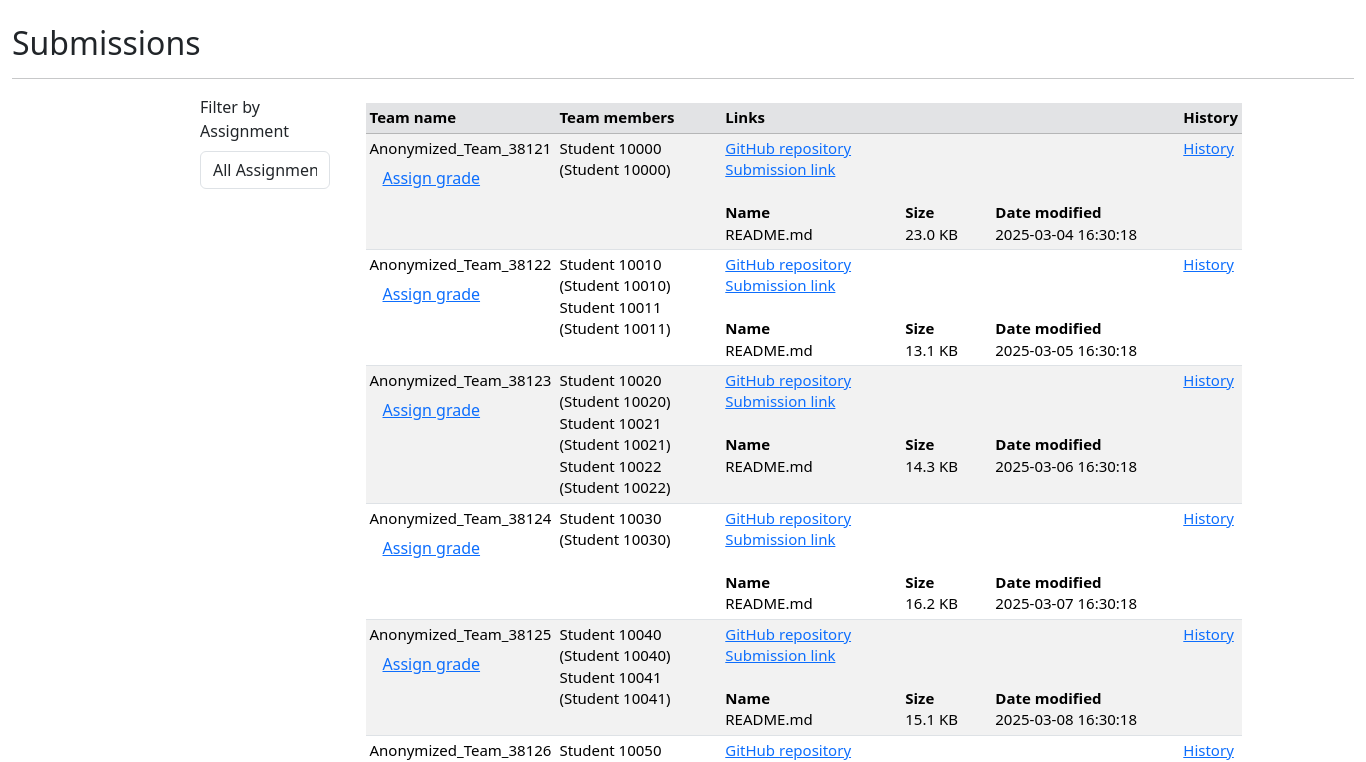
Scenario: SubmissionsView › filters submissions based on selected assignment
# Select an assignment to filter
Select "Assignment 1" in the dropdown labelled "Filter by Assignment" at (265, 170), box [200,151,330,189]
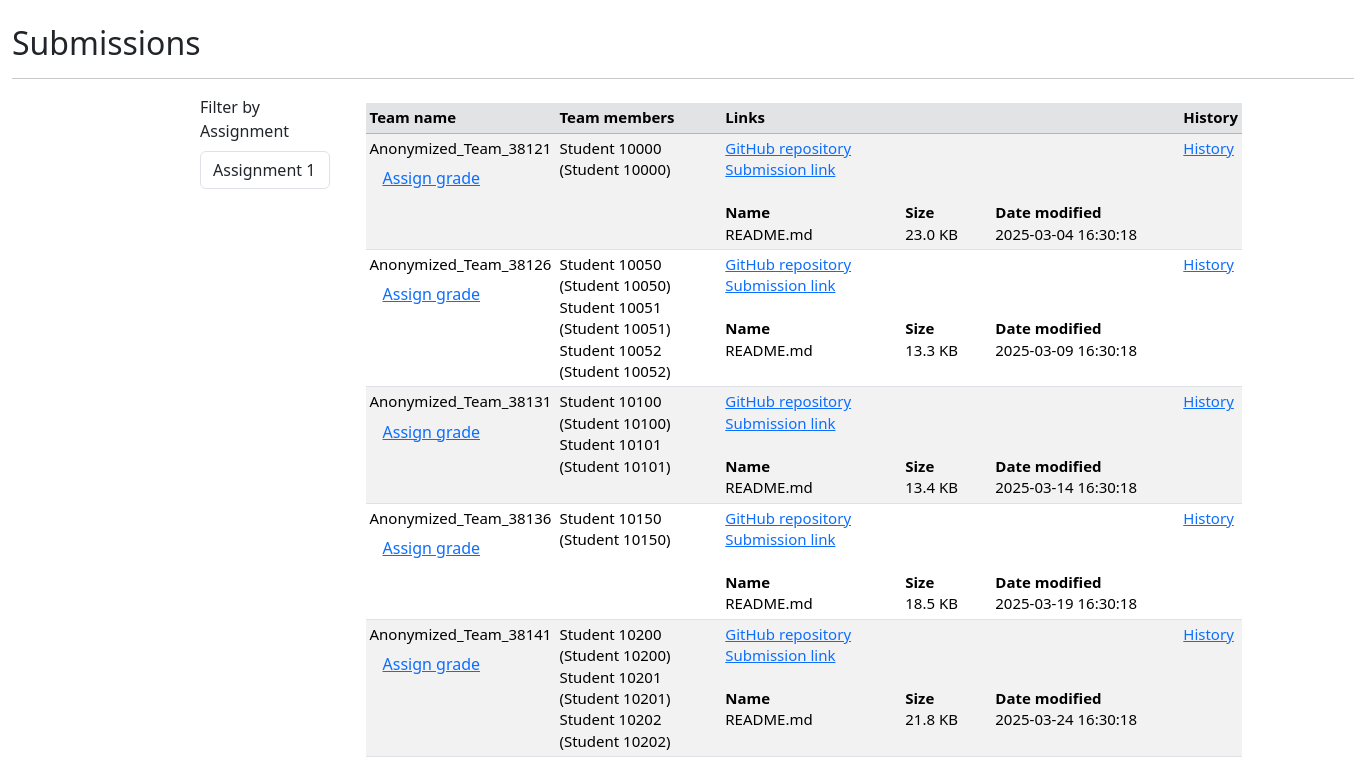
Expected: the text "Anonymized_Team_38121" is shown, [370,138,551,159]
Result: the text "Anonymized_Team_38122" is gone
